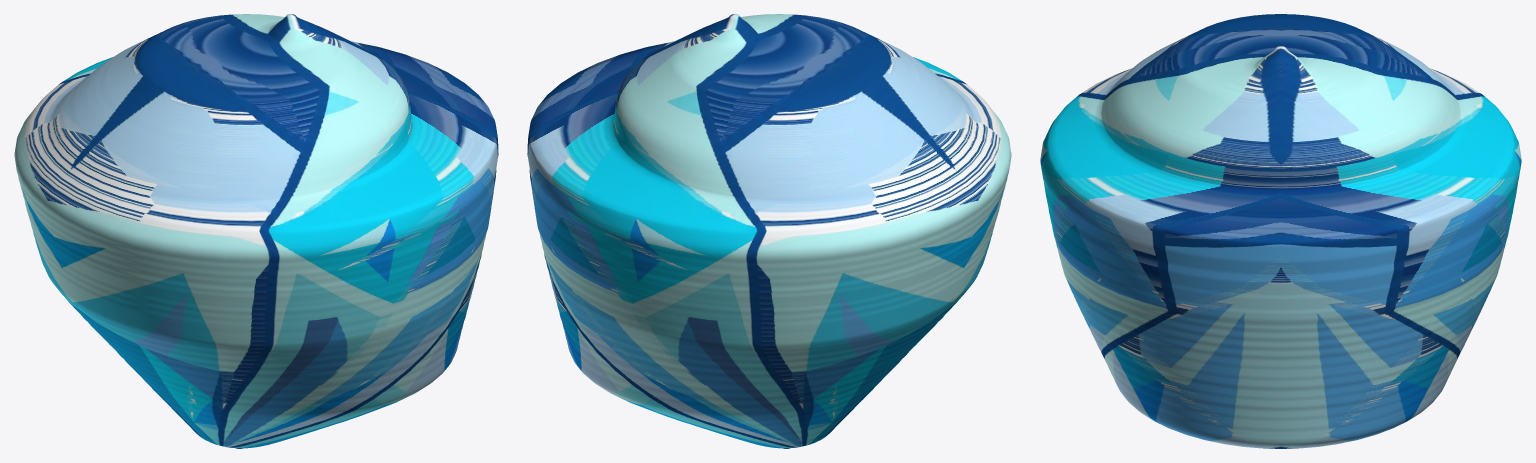
The model's file is compact_crystals.glb.
3 views of the same model, side by side, from view 1: azimuth 30°, elevation 25°; view 2: azimuth 150°, elevation 25°; view 3: azimuth 270°, elevation 25° (orthographic).
Visible parts, largest first — view 1: compact_crystals; view 2: compact_crystals; view 3: compact_crystals.
Boxes of the visible parts, box(x1,y1,x2,y2) form: compact_crystals: box(14, 14, 498, 448); compact_crystals: box(527, 14, 1011, 448); compact_crystals: box(1040, 14, 1521, 448).
Bounding box in the file's own units: 0.9974 × 0.9523 × 0.9974.
1 material, 1 textured.
